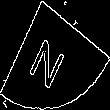N_NE: (33, 23, 77, 87)
